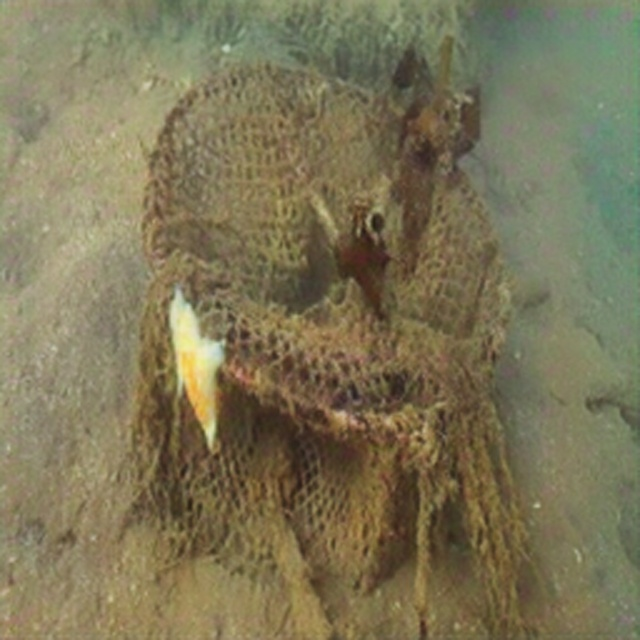mine: (138, 57, 512, 598)
